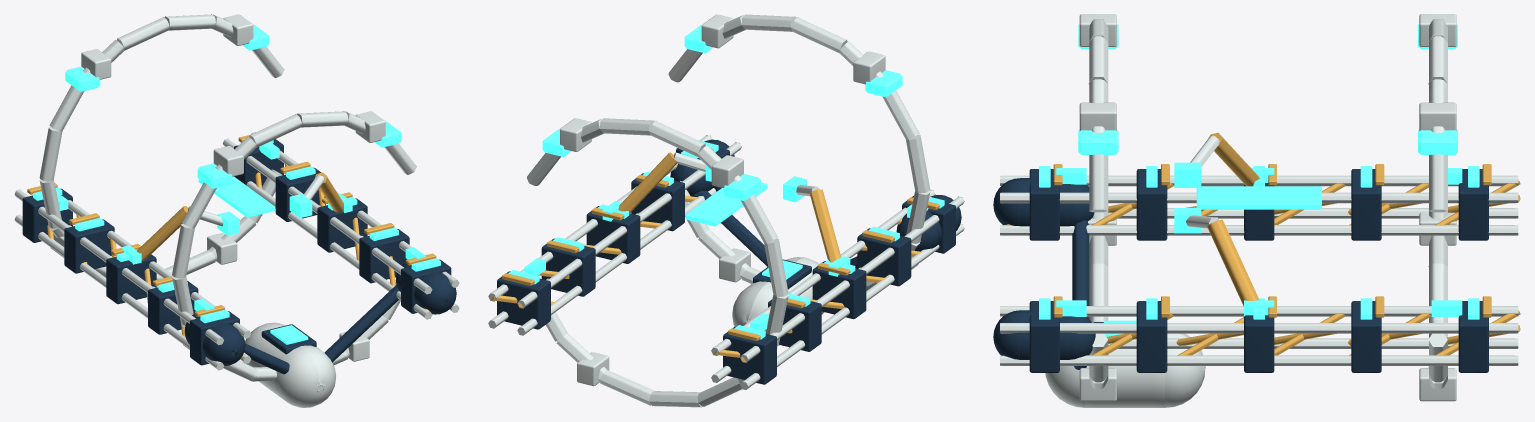
Rendered from shipyard.glb.
The picture shows the model from 3 angles, left to right: view 1: azimuth 30°, elevation 25°; view 2: azimuth 150°, elevation 25°; view 3: azimuth 270°, elevation 25°; orthographic projection. The views are drawn at different scales.
Parts seen in each view (by area): view 1: StaticHull, AnimatedHardware; view 2: StaticHull, AnimatedHardware; view 3: StaticHull, AnimatedHardware.
Part boxes in pixels (x1,y1,x2,y2): StaticHull: (14,14,459,407); AnimatedHardware: (137,172,343,260); StaticHull: (488,14,964,407); AnimatedHardware: (618,152,840,262); StaticHull: (993,14,1520,407); AnimatedHardware: (1174,132,1321,306).
Size of the model in its own units: 4.17 by 4.54 by 5.9.
